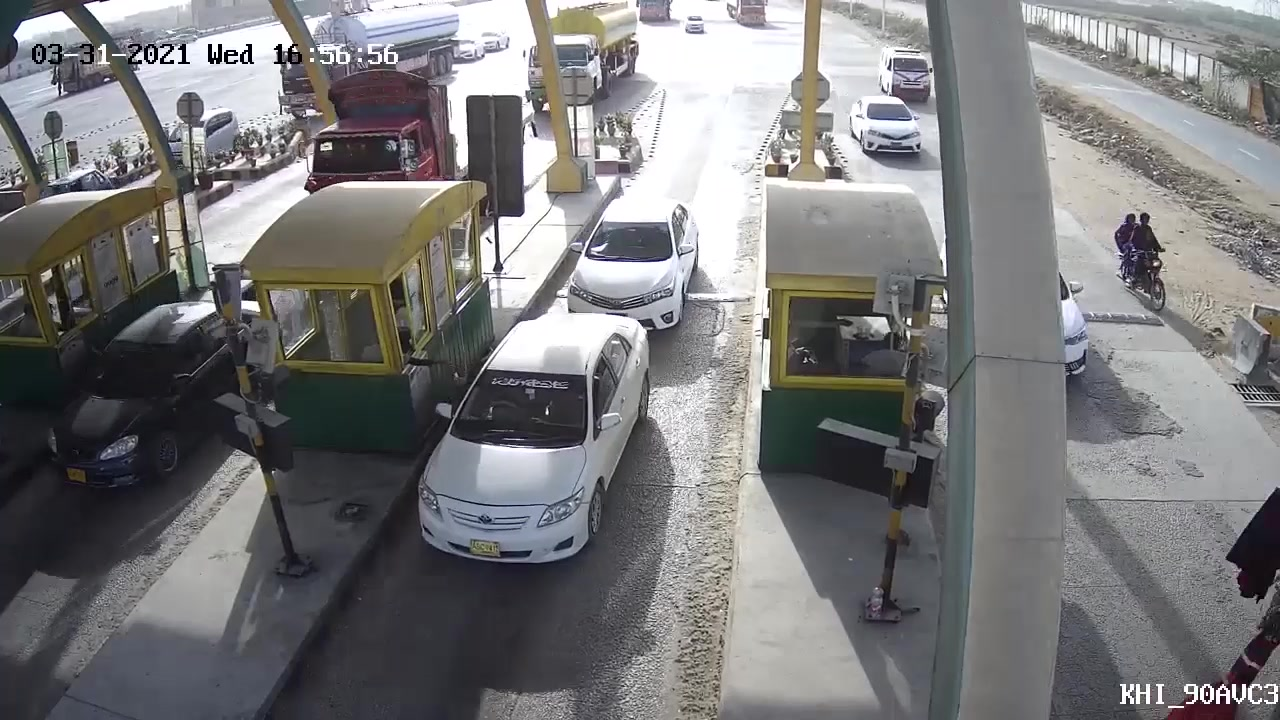F1: (414, 320, 660, 578), (560, 188, 703, 312)
